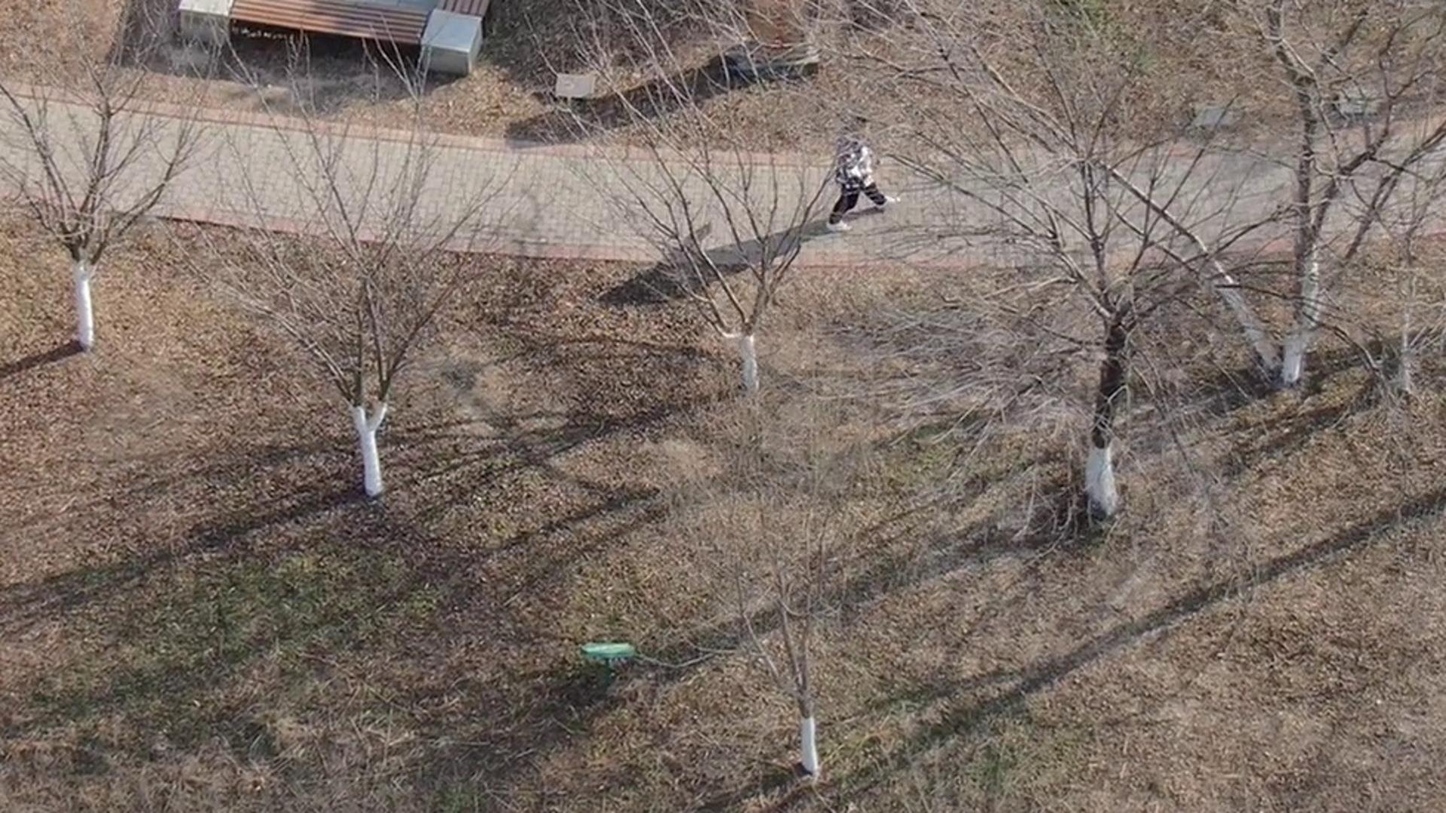human: (806, 145, 881, 259)
